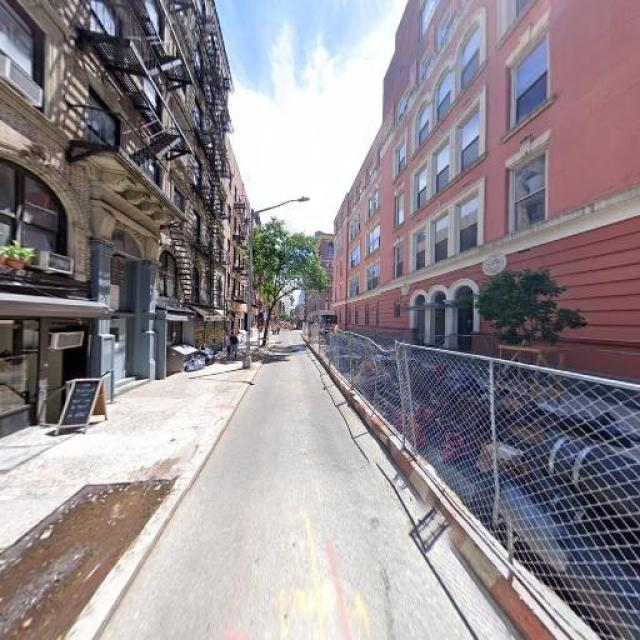Building: (334, 1, 640, 457), (1, 1, 220, 424), (223, 125, 255, 343)
